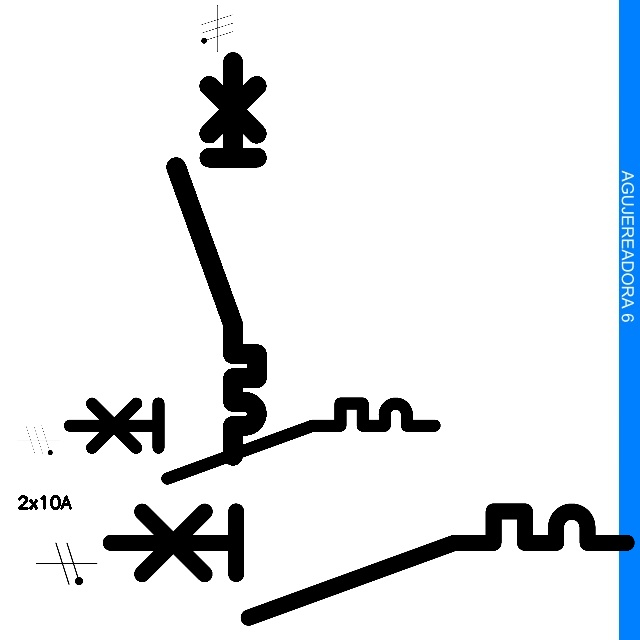interruptor_termomagnetico: (97, 498, 640, 631), (166, 51, 267, 465), (60, 394, 443, 488)
